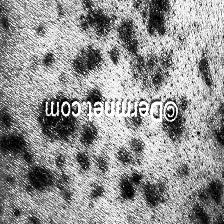Non-Cancerous Skin Condition: (199, 34, 224, 208), (132, 52, 172, 92), (135, 0, 170, 38), (122, 176, 166, 204)
